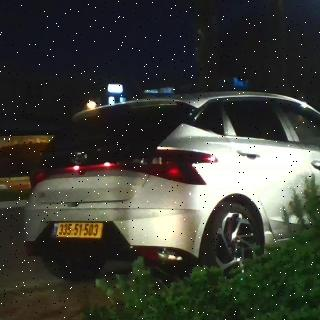LicensePlate: (57, 223, 103, 238)
